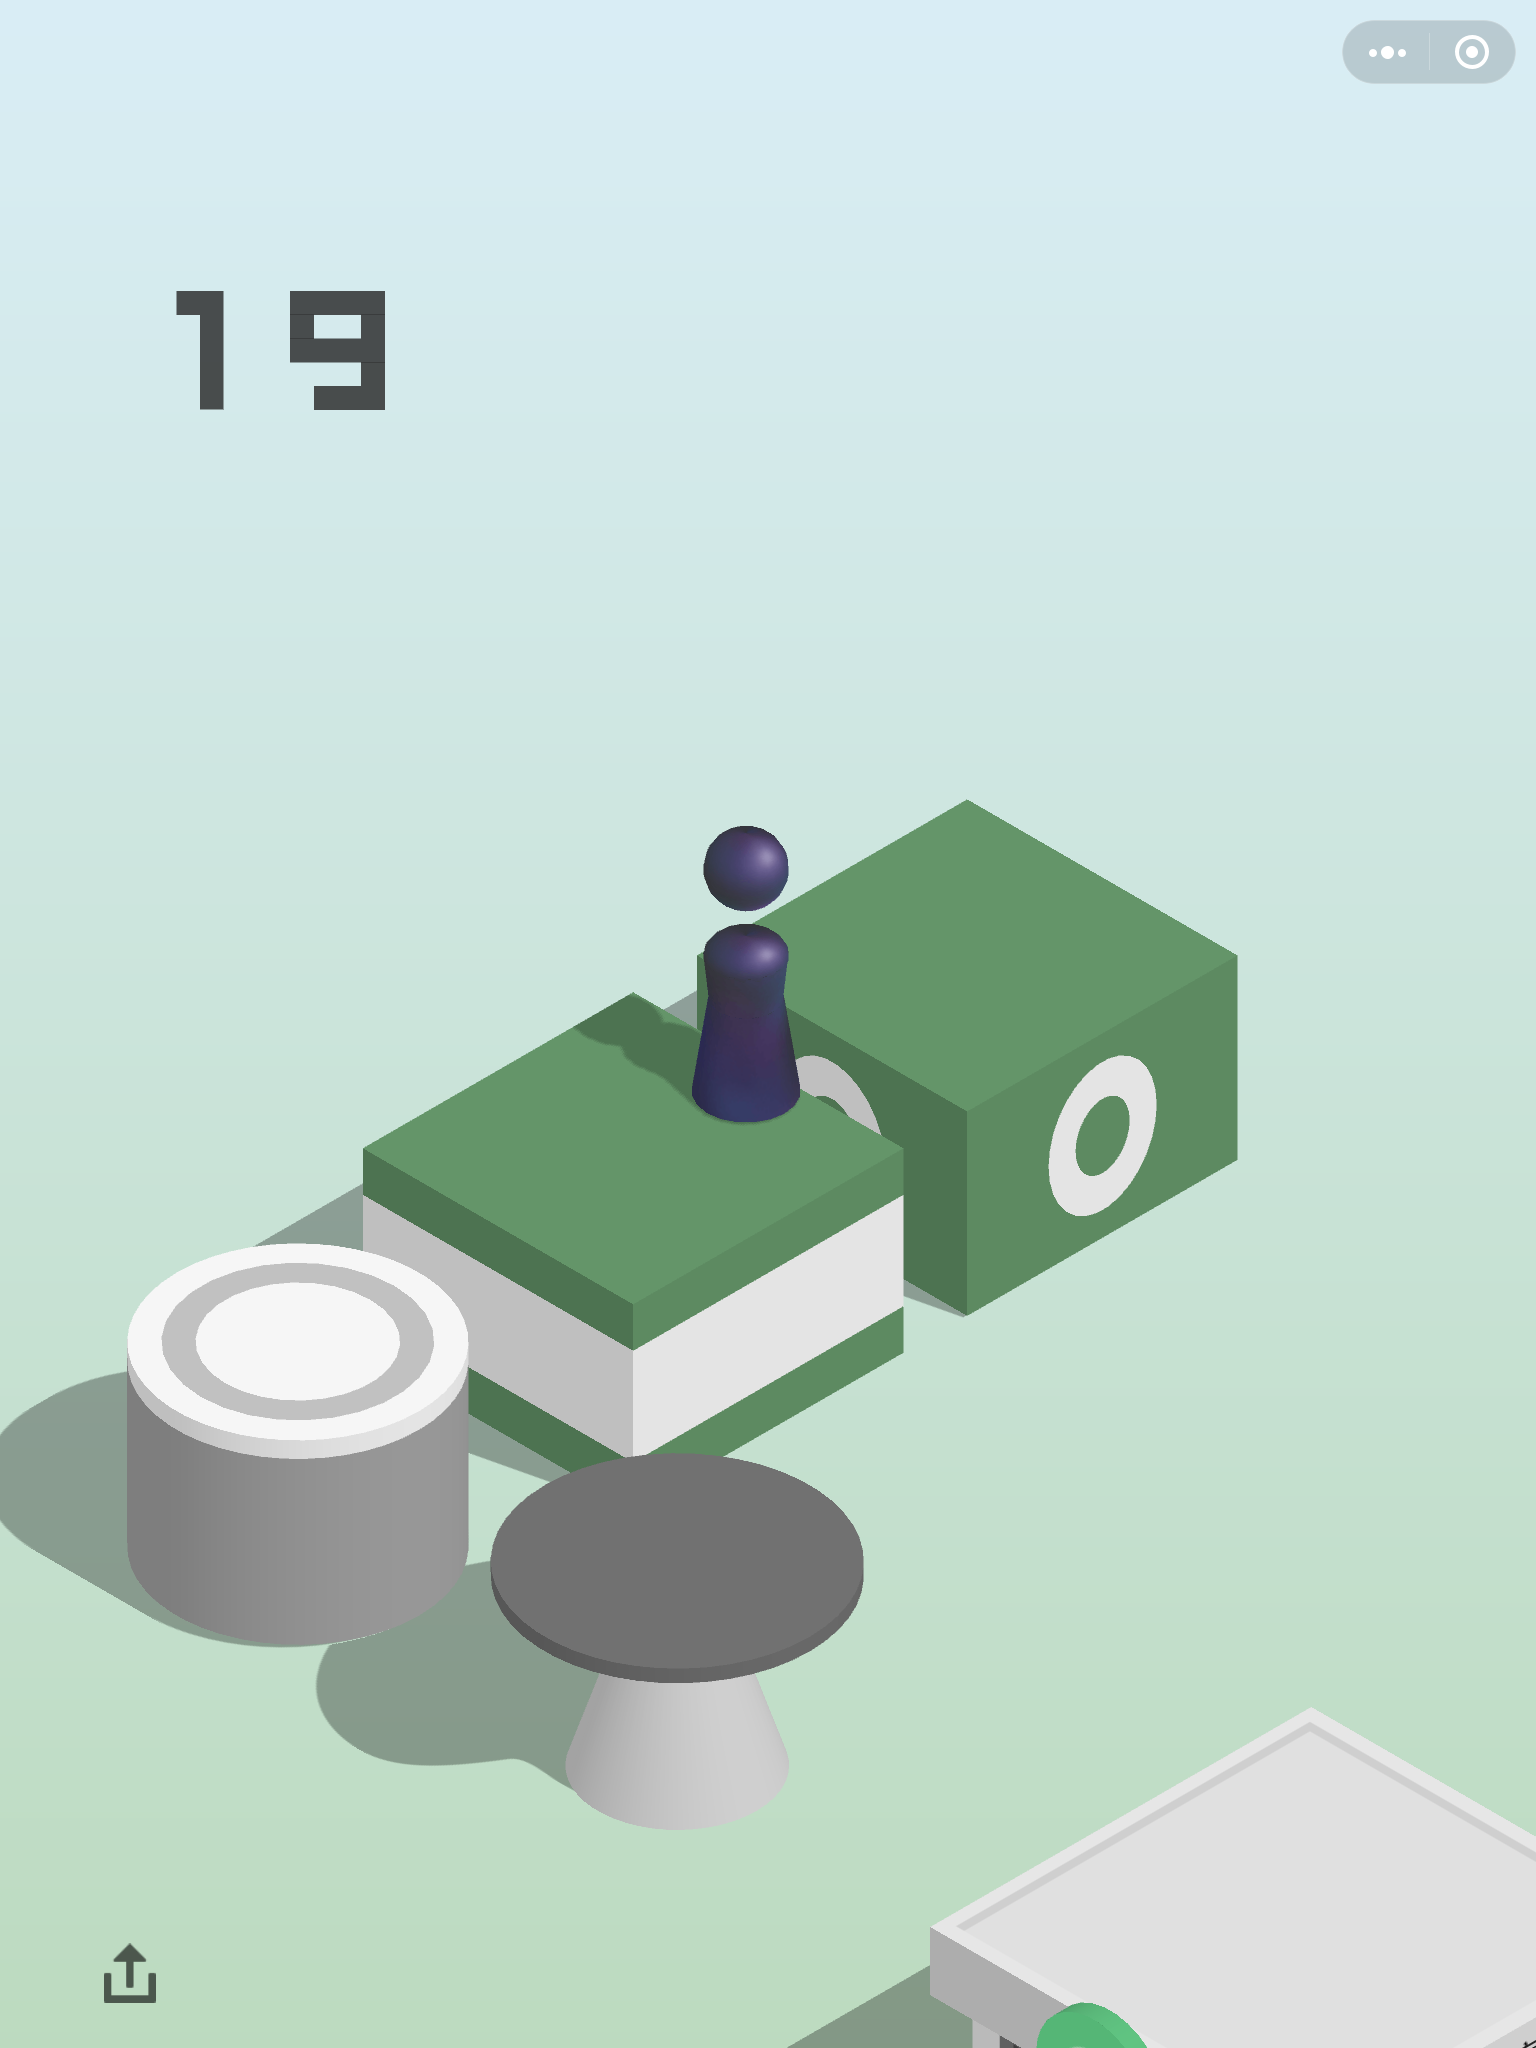c: (482, 1450, 871, 1834), (119, 1234, 474, 1651)
f: (691, 795, 1241, 1322), (355, 987, 913, 1488), (925, 1695, 1536, 2048)
r: (682, 819, 803, 1132)
